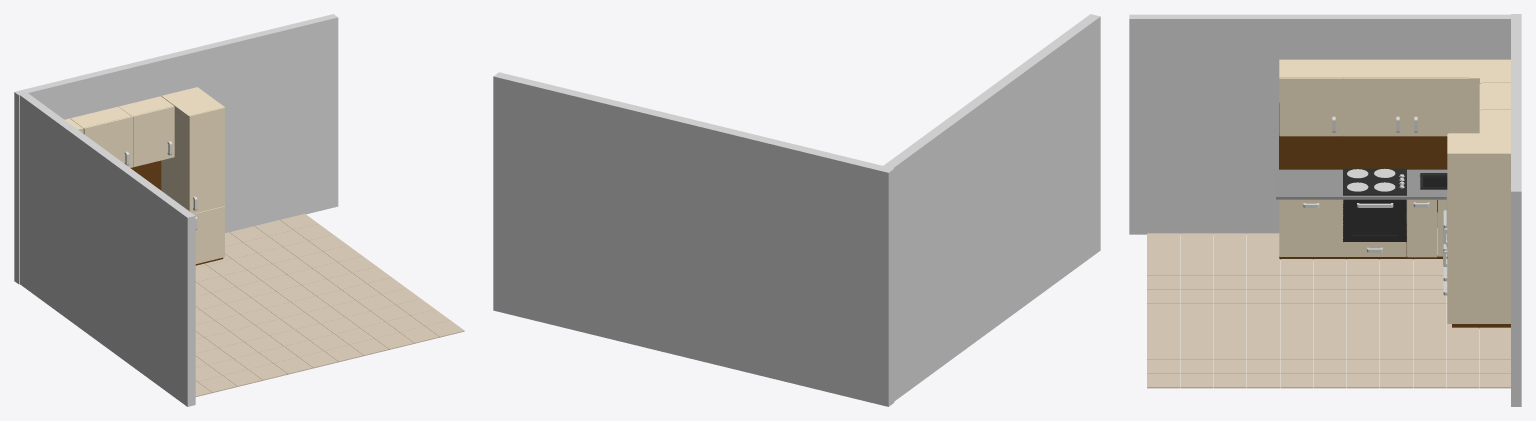
File: kitchen1.fbx
3 views of the same model, side by side, from view 1: azimuth 30°, elevation 25°; view 2: azimuth 150°, elevation 25°; view 3: azimuth 270°, elevation 25° (orthographic). The views are drawn at different scales.
Visible parts, largest first — view 1: Cube.027, Cube.028, Cube.025, Cube.021, Cube.020, Cube.040, Cube.022, Cube.041, Cube.043, Cube.038, Cube.046; view 2: Cube.028, Cube.027; view 3: Cube.025, Cube.027, Cube.020, Cube.045, Cube.028, Cube.029, Cube.034, Cube.035, Cube.014, Cube.012, Cube.004, Cube.009 (+12 smaller).
Part boxes in pixels (x1,y1,x2,y2): Cube.027: (20,93,195,406); Cube.028: (14,14,338,284); Cube.025: (195,214,464,396); Cube.021: (189,107,224,213); Cube.020: (161,87,224,210); Cube.040: (132,106,174,167); Cube.022: (193,206,224,263); Cube.041: (83,116,132,167); Cube.043: (70,106,130,127); Cube.038: (118,96,173,116); Cube.046: (130,160,161,190); Cube.028: (493,72,894,406); Cube.027: (883,14,1100,401); Cube.025: (1147,233,1510,388); Cube.027: (1129,14,1510,234); Cube.020: (1448,133,1510,323); Cube.045: (1279,103,1447,169); Cube.028: (1511,14,1521,406); Cube.029: (1279,78,1343,136); Cube.034: (1343,78,1407,136); Cube.035: (1407,78,1470,136); Cube.014: (1279,199,1343,256); Cube.012: (1276,169,1447,245); Cube.004: (1343,199,1406,242); Cube.009: (1407,199,1437,257).
Size of the model in its own units: 393 by 222 by 367.
